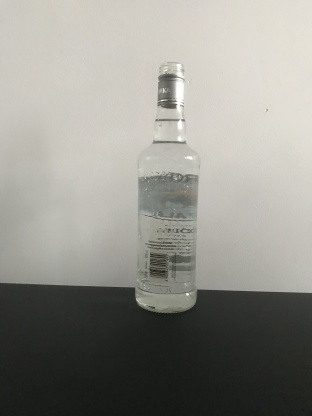nakretka: (155, 59, 187, 111)
